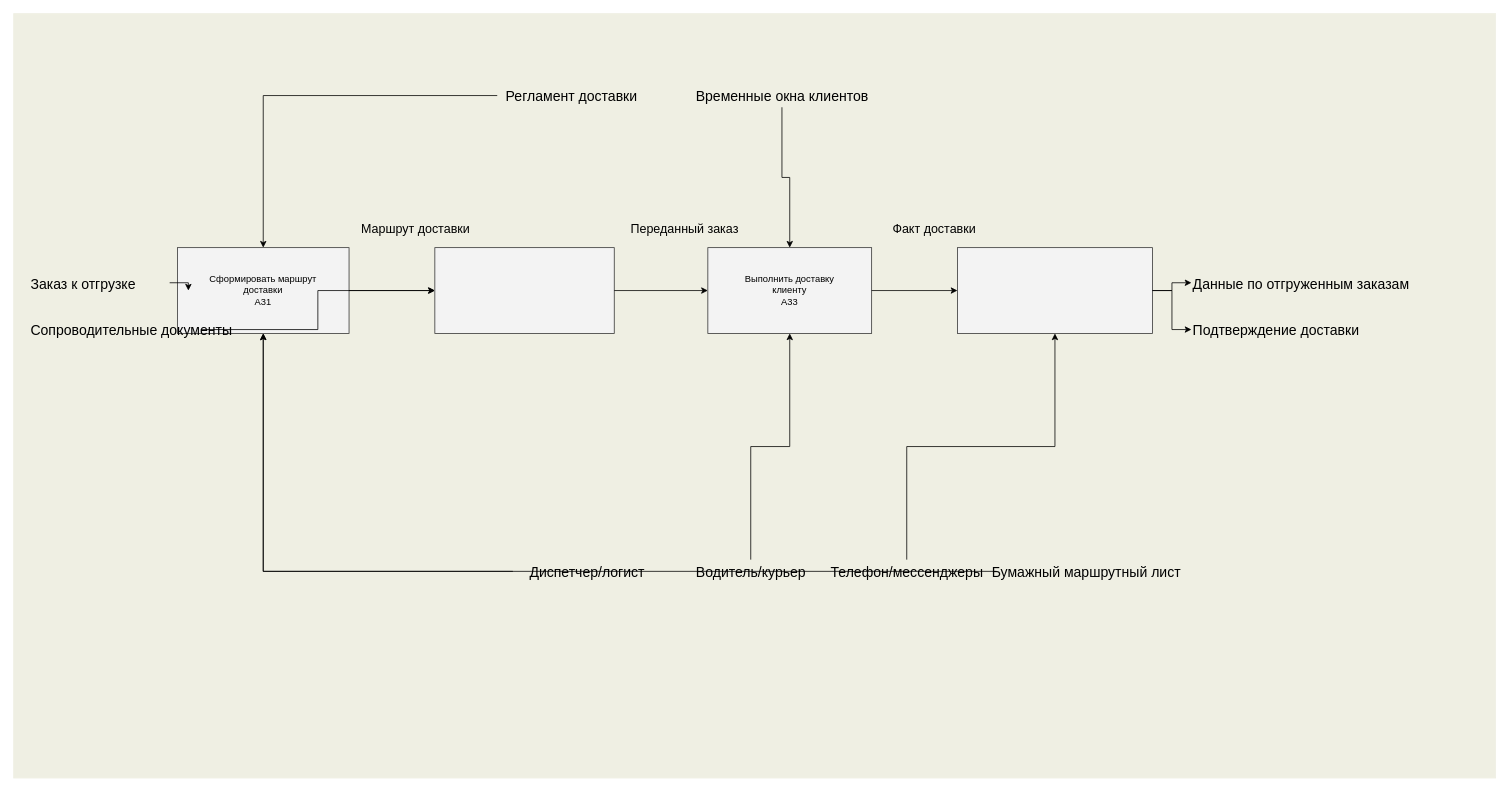
Some shapes in this 1509 by 792 pixel diagram are drawn without their labels. The box of each missing label's shape, as (x1, y1, x2, y2) in pixels:
Передать заказ водителю/курьеру A32: (434, 247, 614, 333)
Подтвердить получение и закрыть доставку A34: (957, 247, 1152, 333)
